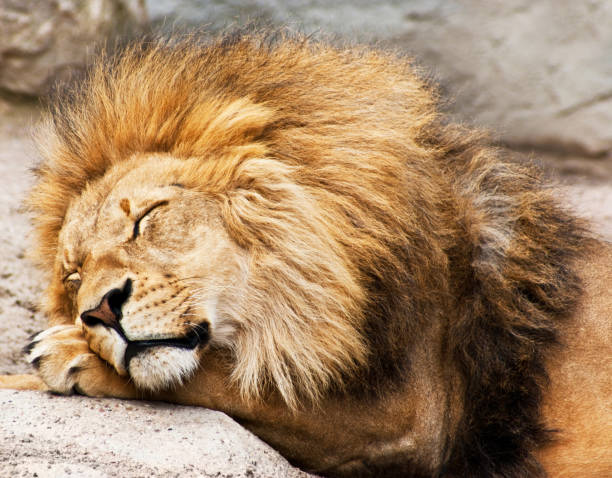lion: (8, 21, 588, 478)
